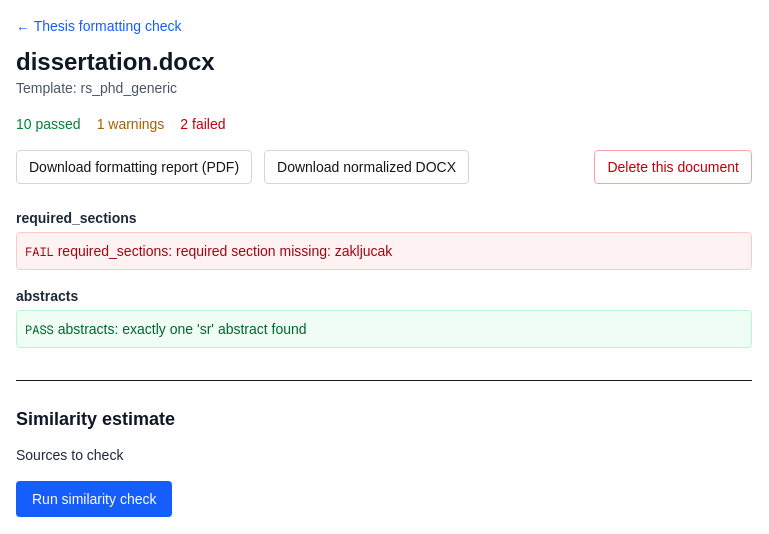
Test case: ThesisReportPage (/thesis/[id]) › deleting the document shows a confirmation note (T25, closes RC1's own delete gap)
This screenshot has width=769, height=534.
Expected: the heading "dissertation.docx" is shown, [16,48,215,75]
Click the button "Delete this document": (673, 167) [594,150,752,184]
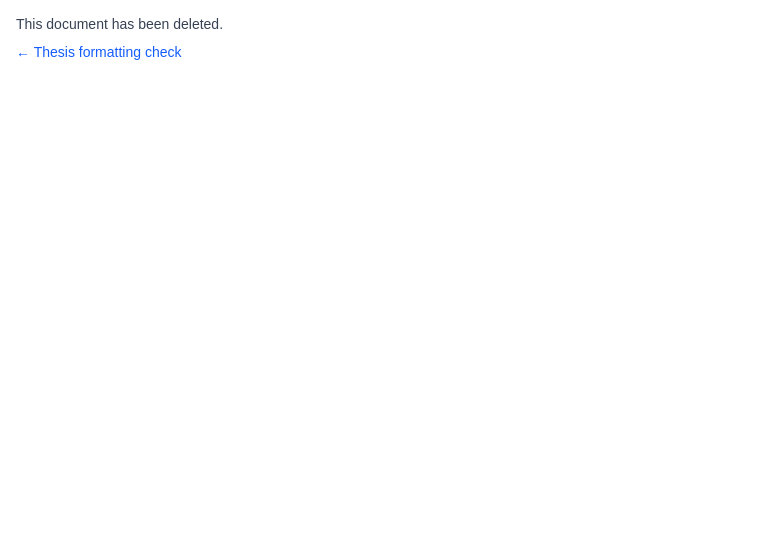
Expected: the text "This document has been deleted." is shown, [16,16,223,32]
